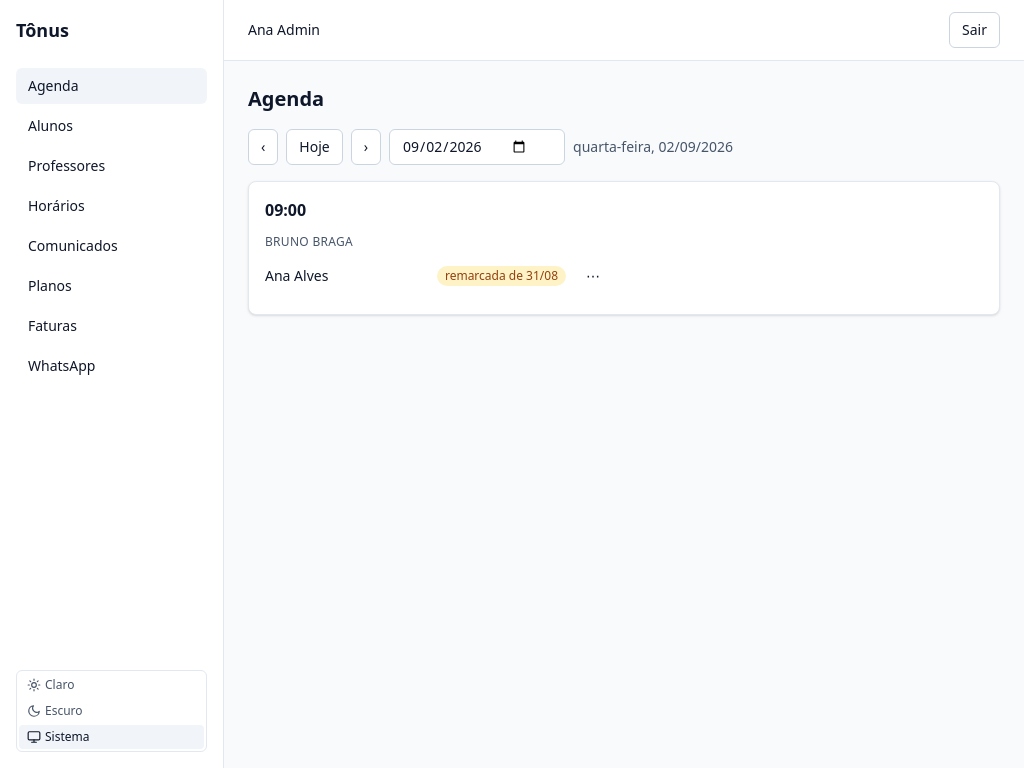
menu de ações › oferece só desfazer numa aula que veio de remarcação
What coordinates should you click on to do the following:
click the button named "Ações de Ana Alves"
I would click on:
 (593, 276)
Its box is top-left (574, 258), bottom-right (612, 294).
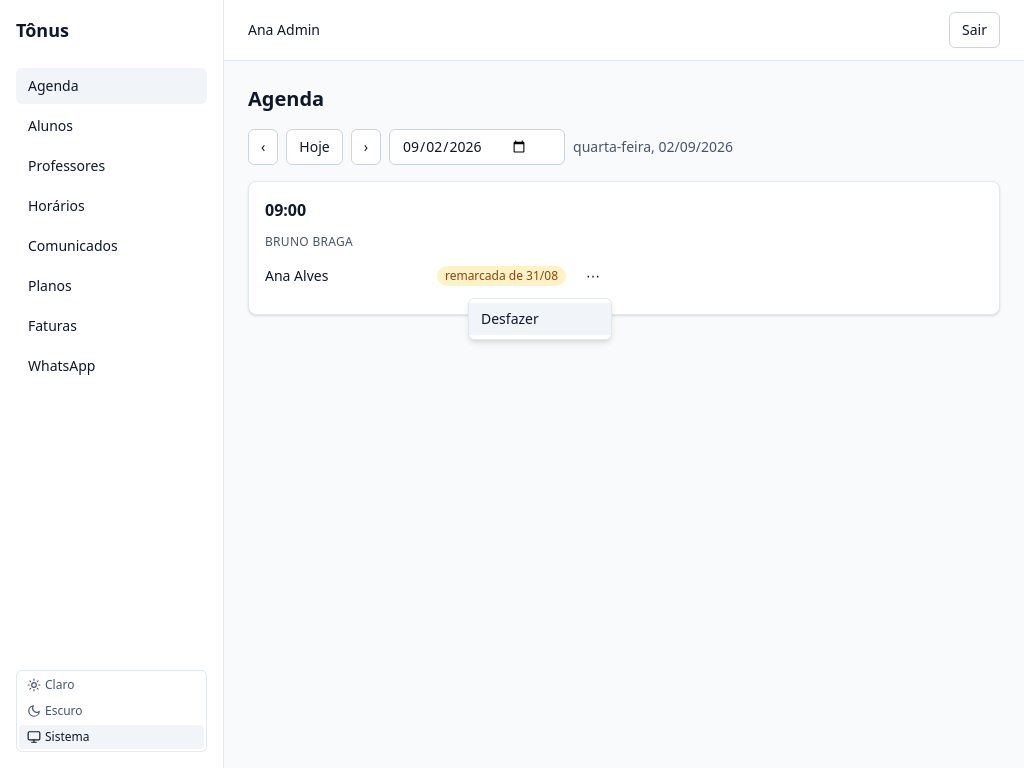
Check: the menu item "Desfazer" is shown, box top-left (469, 303), bottom-right (611, 335)
